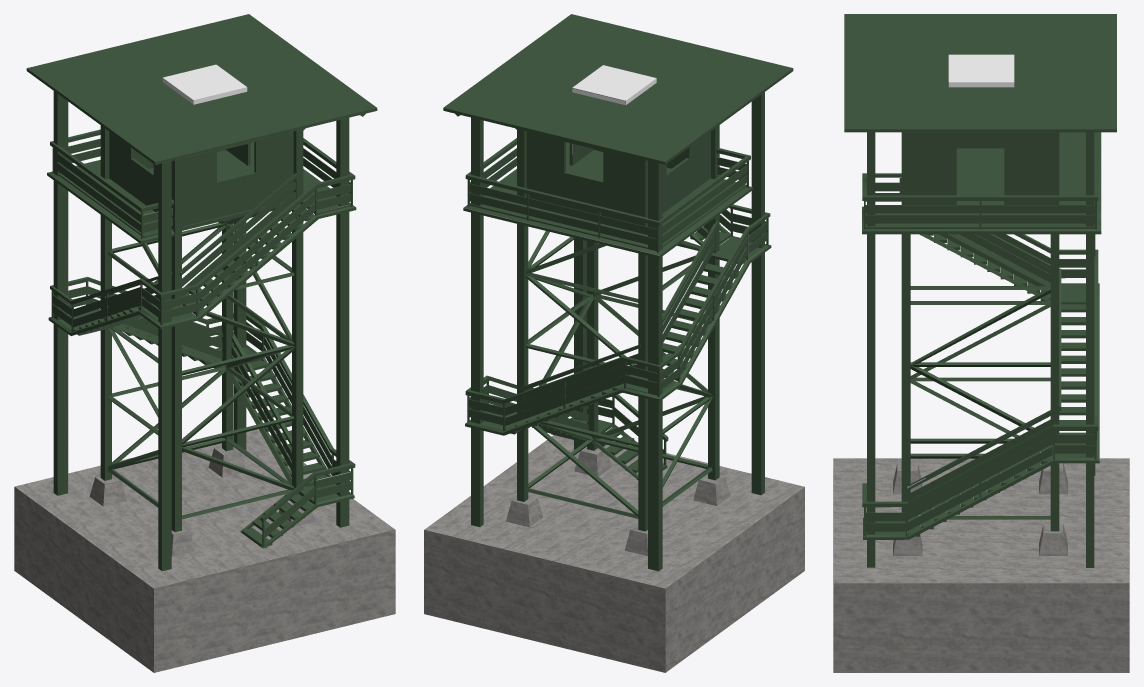
File: Watching_tower.glb
3 views of the same model, side by side, from view 1: azimuth 30°, elevation 25°; view 2: azimuth 150°, elevation 25°; view 3: azimuth 270°, elevation 25° (orthographic). The views are drawn at different scales.
Parts seen in each view (by area): view 1: WatchTower; view 2: WatchTower; view 3: WatchTower.
Part boxes in pixels (x1=…): WatchTower: x1=14, y1=14, x2=395, y2=672; WatchTower: x1=424, y1=14, x2=804, y2=672; WatchTower: x1=833, y1=14, x2=1129, y2=672.
Size of the model in its own units: 9 by 18.16 by 9.
Materials: 1 (1 with a texture image).
